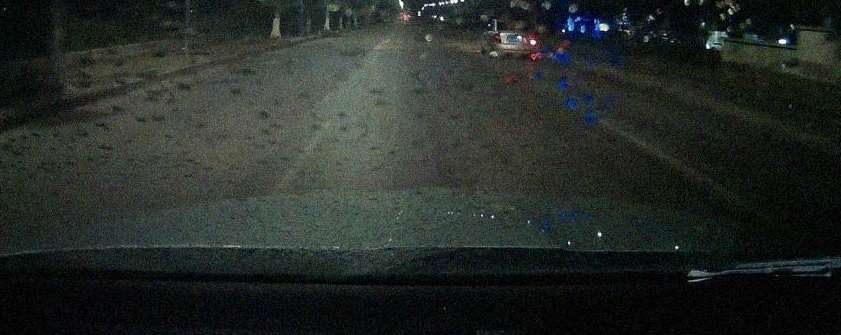L_light: (493, 33, 501, 44)
R_light: (528, 35, 536, 45)
T_light: (509, 21, 515, 24)
night-right: (493, 19, 536, 59)
